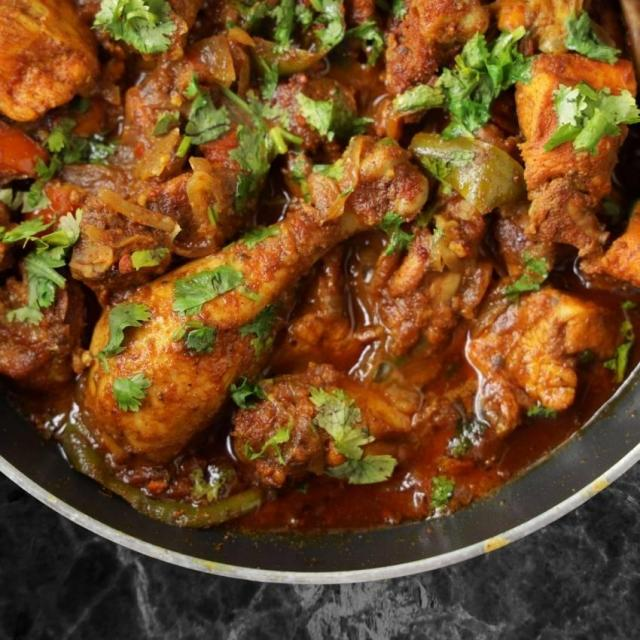chicken: (19, 0, 632, 549)
